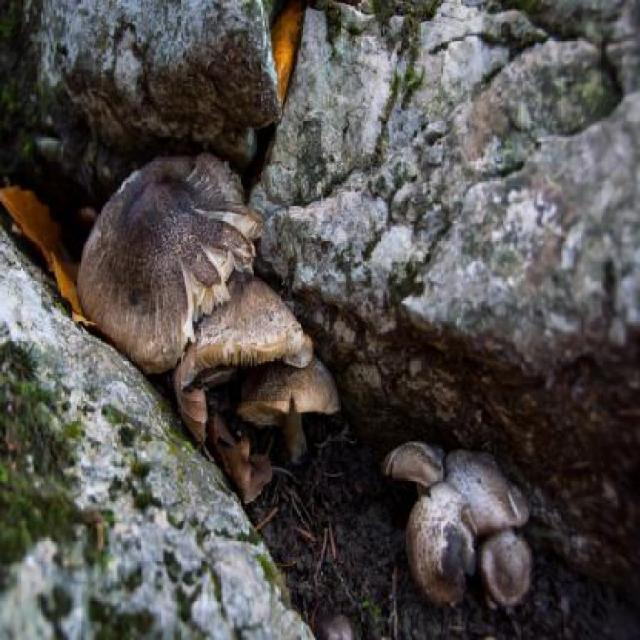Mushroom: (71, 183, 264, 400), (380, 438, 534, 614), (174, 270, 314, 408), (235, 360, 340, 466)
